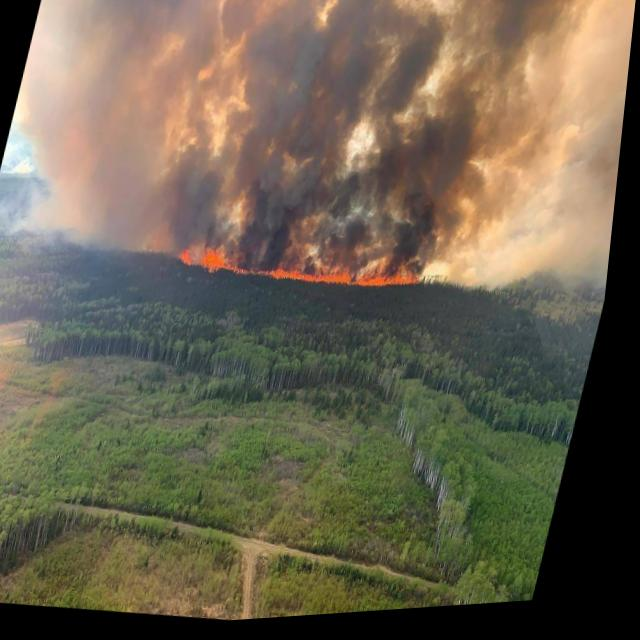Fire: (173, 225, 445, 321)
